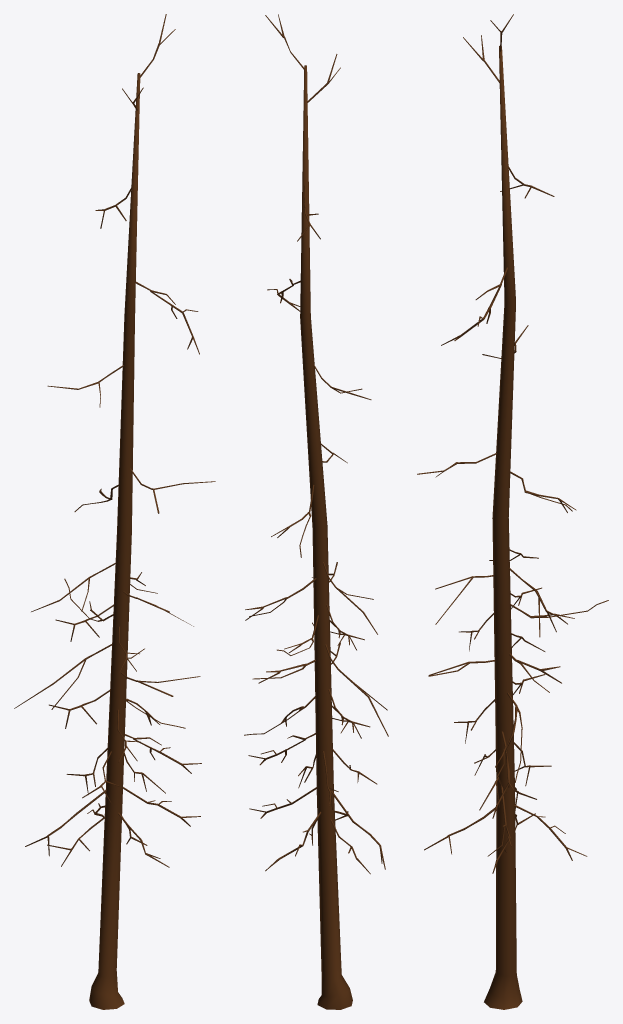
File: Tree 3.fbx
3 views of the same model, side by side, from view 1: azimuth 30°, elevation 25°; view 2: azimuth 150°, elevation 25°; view 3: azimuth 270°, elevation 25° (orthographic). The views are drawn at different scales.
Visible parts, largest first — view 1: Tree 3; view 2: Tree 3; view 3: Tree 3.
Part boxes in pixels (x1,y1,x2,y2): Tree 3: (14,14,215,1009); Tree 3: (244,14,388,1009); Tree 3: (417,14,608,1009).
Size of the model in its own units: 93.26 by 528 by 89.87.
